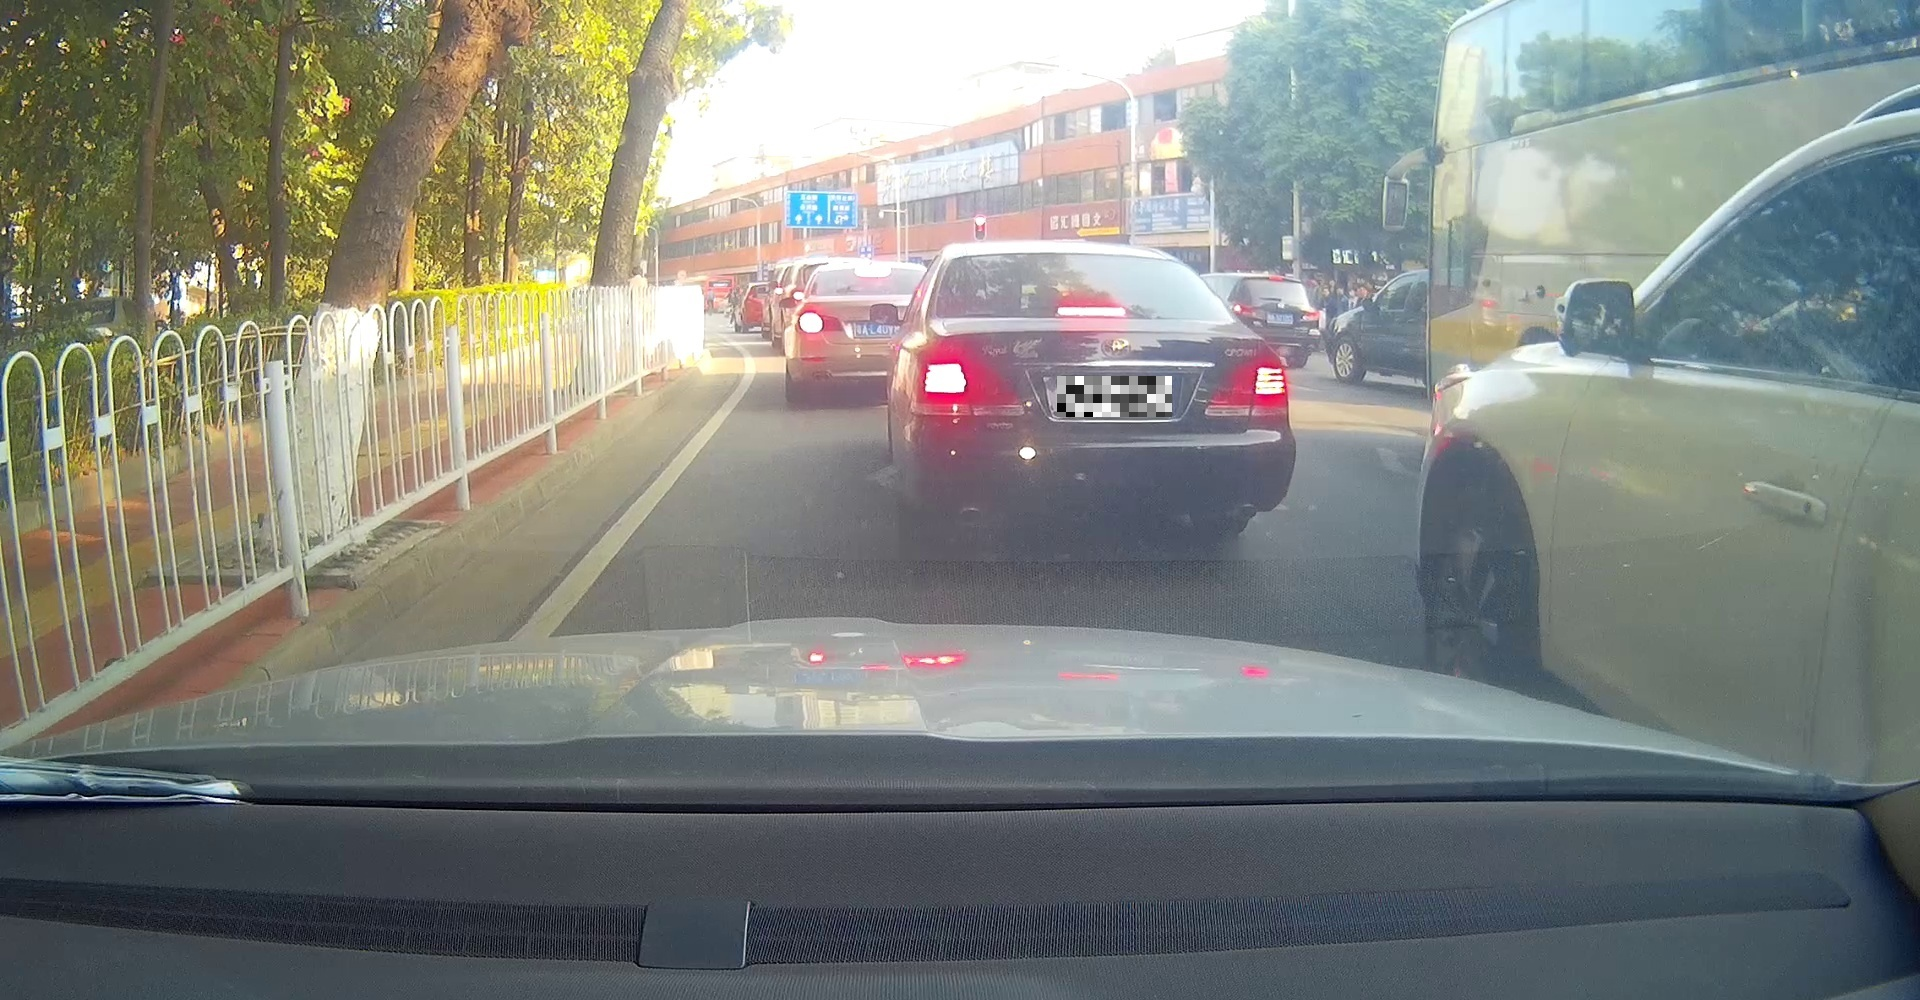L_light: (918, 355, 1007, 405)
R_light: (1210, 354, 1288, 407)
T_light: (1057, 306, 1126, 316)
day-brake: (910, 246, 1297, 542)
plate_1: (1057, 376, 1172, 418)
